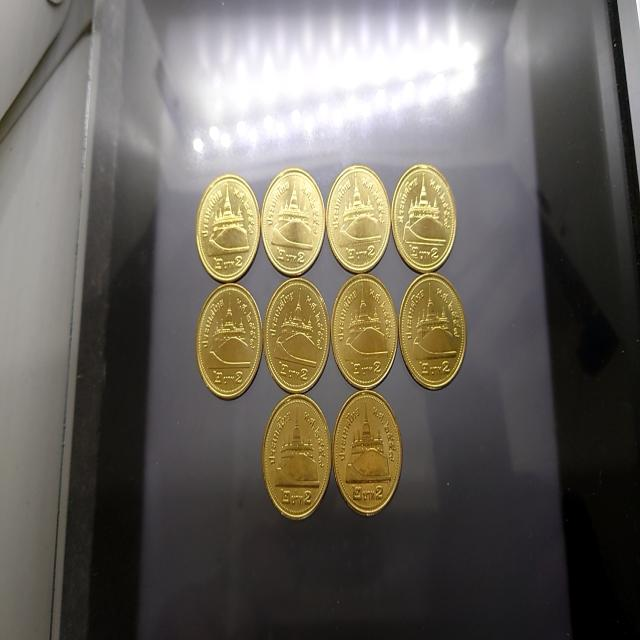2 Bath: (262, 392, 333, 523), (332, 390, 404, 519), (399, 273, 470, 393), (195, 283, 264, 405), (331, 272, 400, 392), (266, 280, 332, 394), (393, 164, 460, 275), (262, 165, 327, 278), (327, 165, 393, 276), (195, 175, 261, 285)
